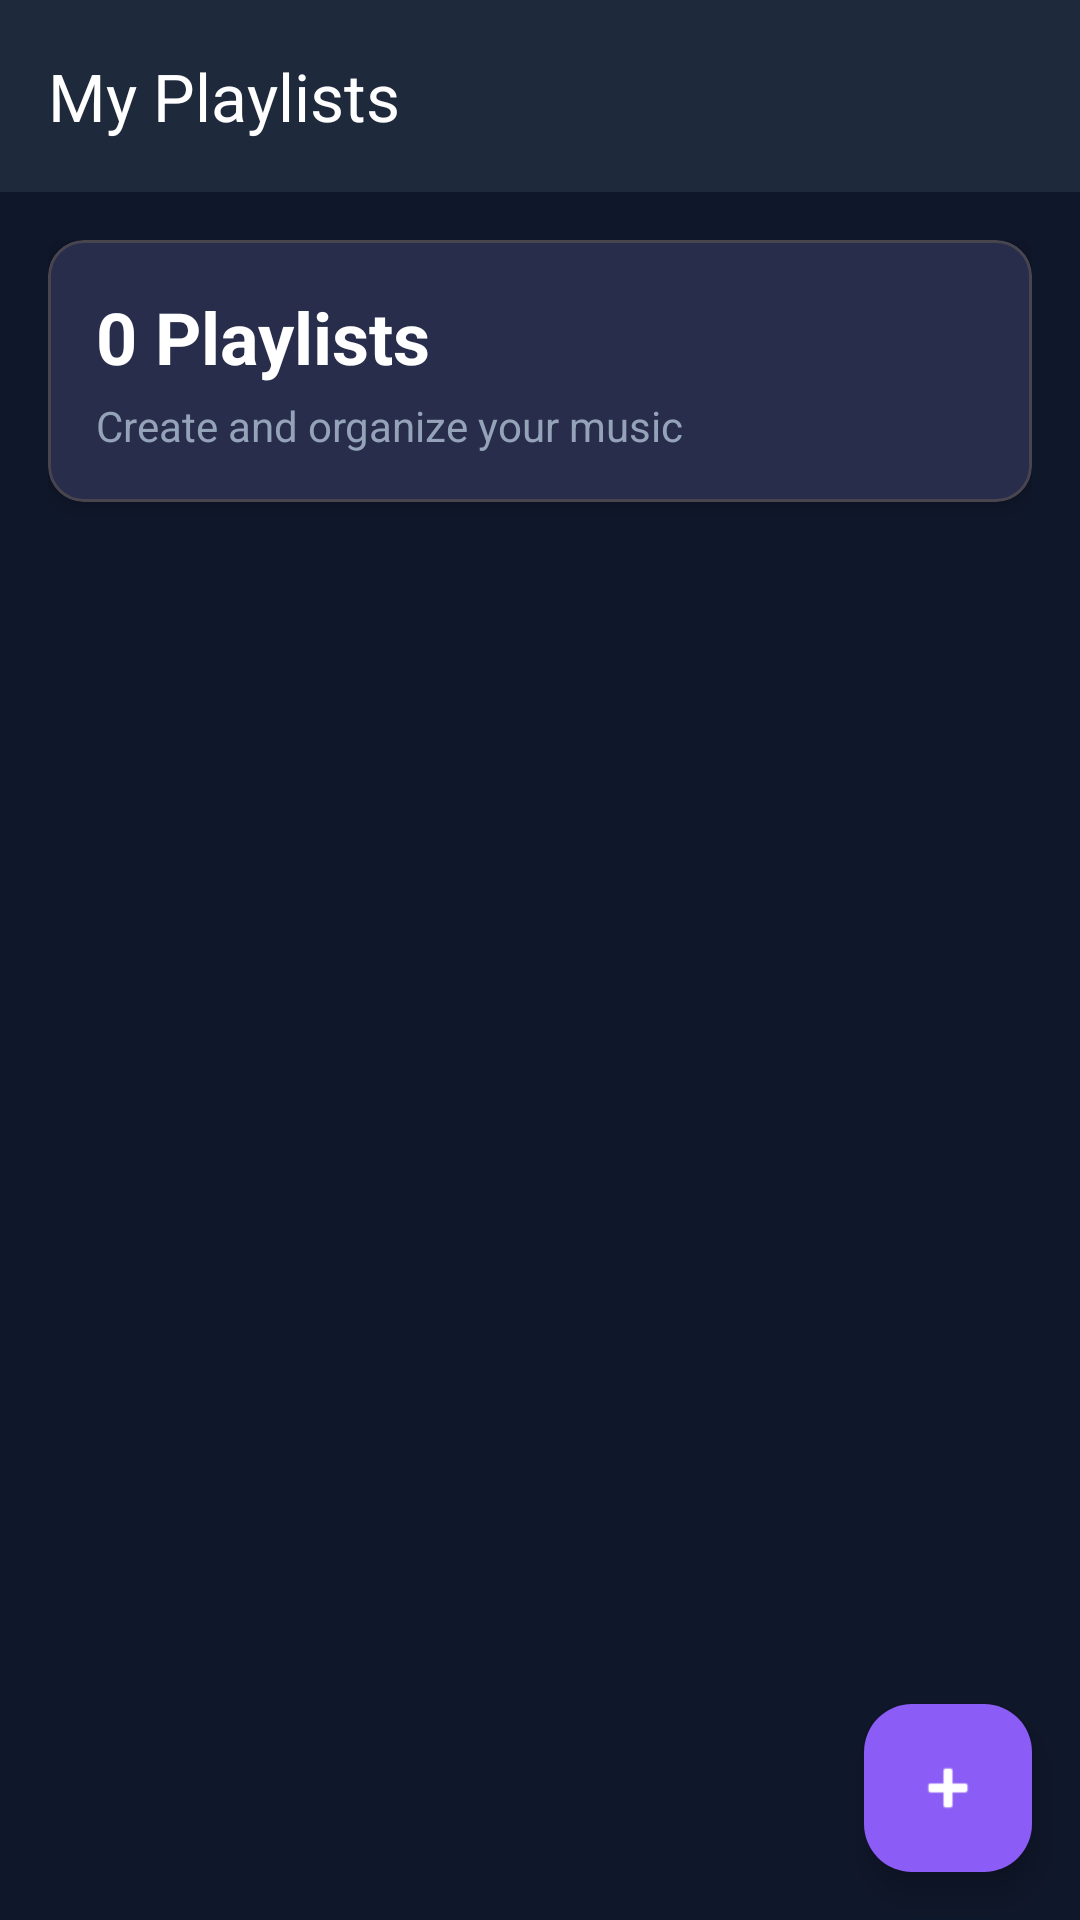

Named icons in this screenshot (1080x1920) and their centers, (x=x, y=y):
Create Playlist: (x=948, y=1788)
